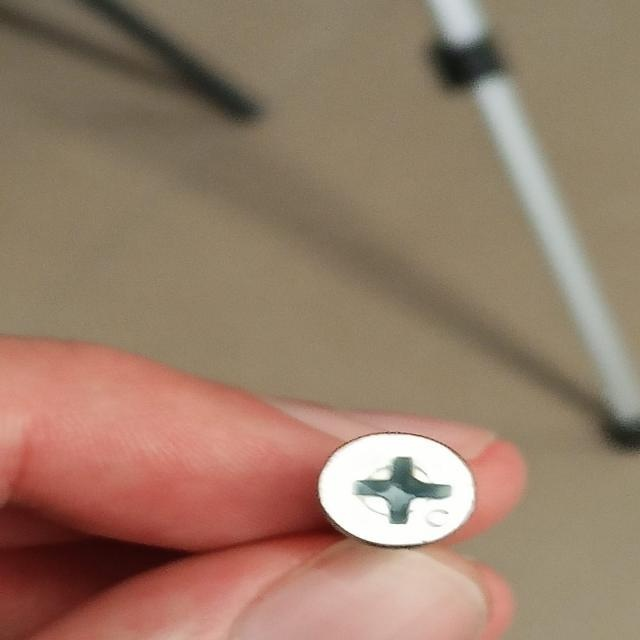phillips: (317, 431, 475, 549)
